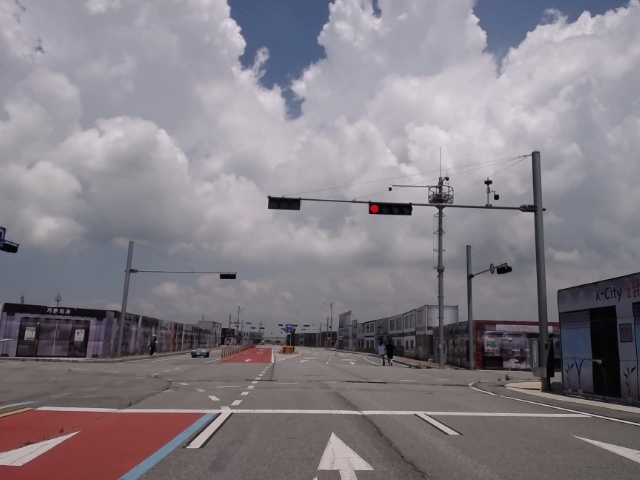red_4: (369, 202, 412, 215)
